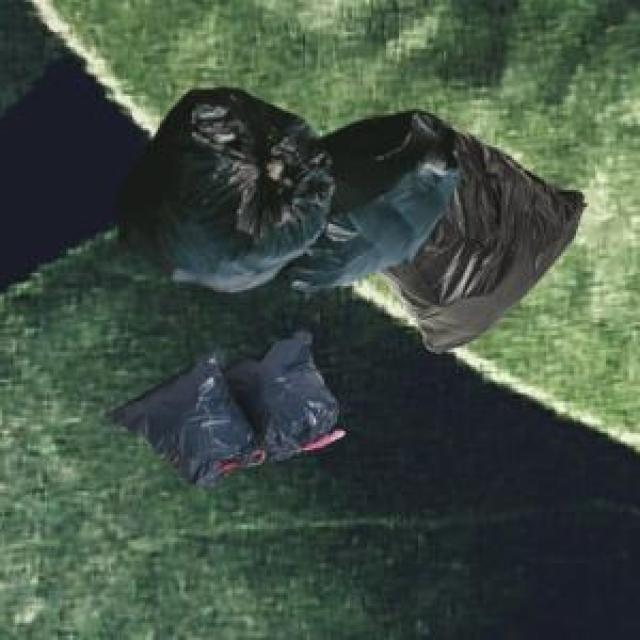Trashbag: (142, 96, 315, 285), (306, 108, 462, 292), (428, 160, 586, 341), (127, 358, 246, 482), (237, 342, 342, 466)
